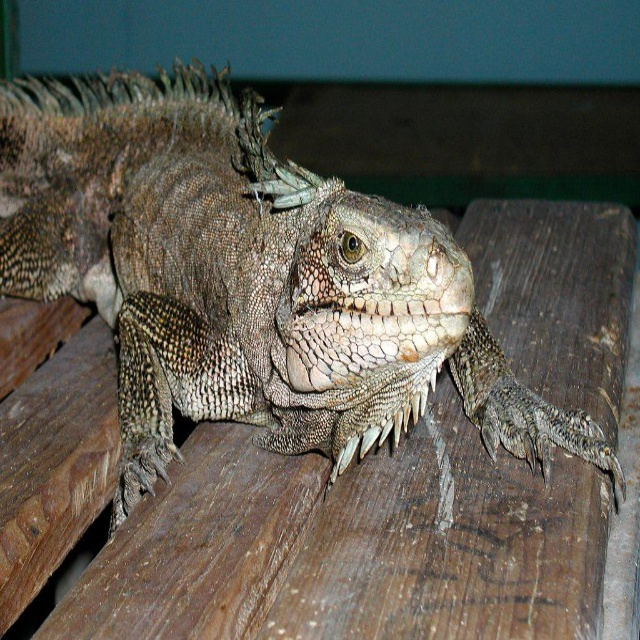Lizard: (2, 66, 627, 533)
